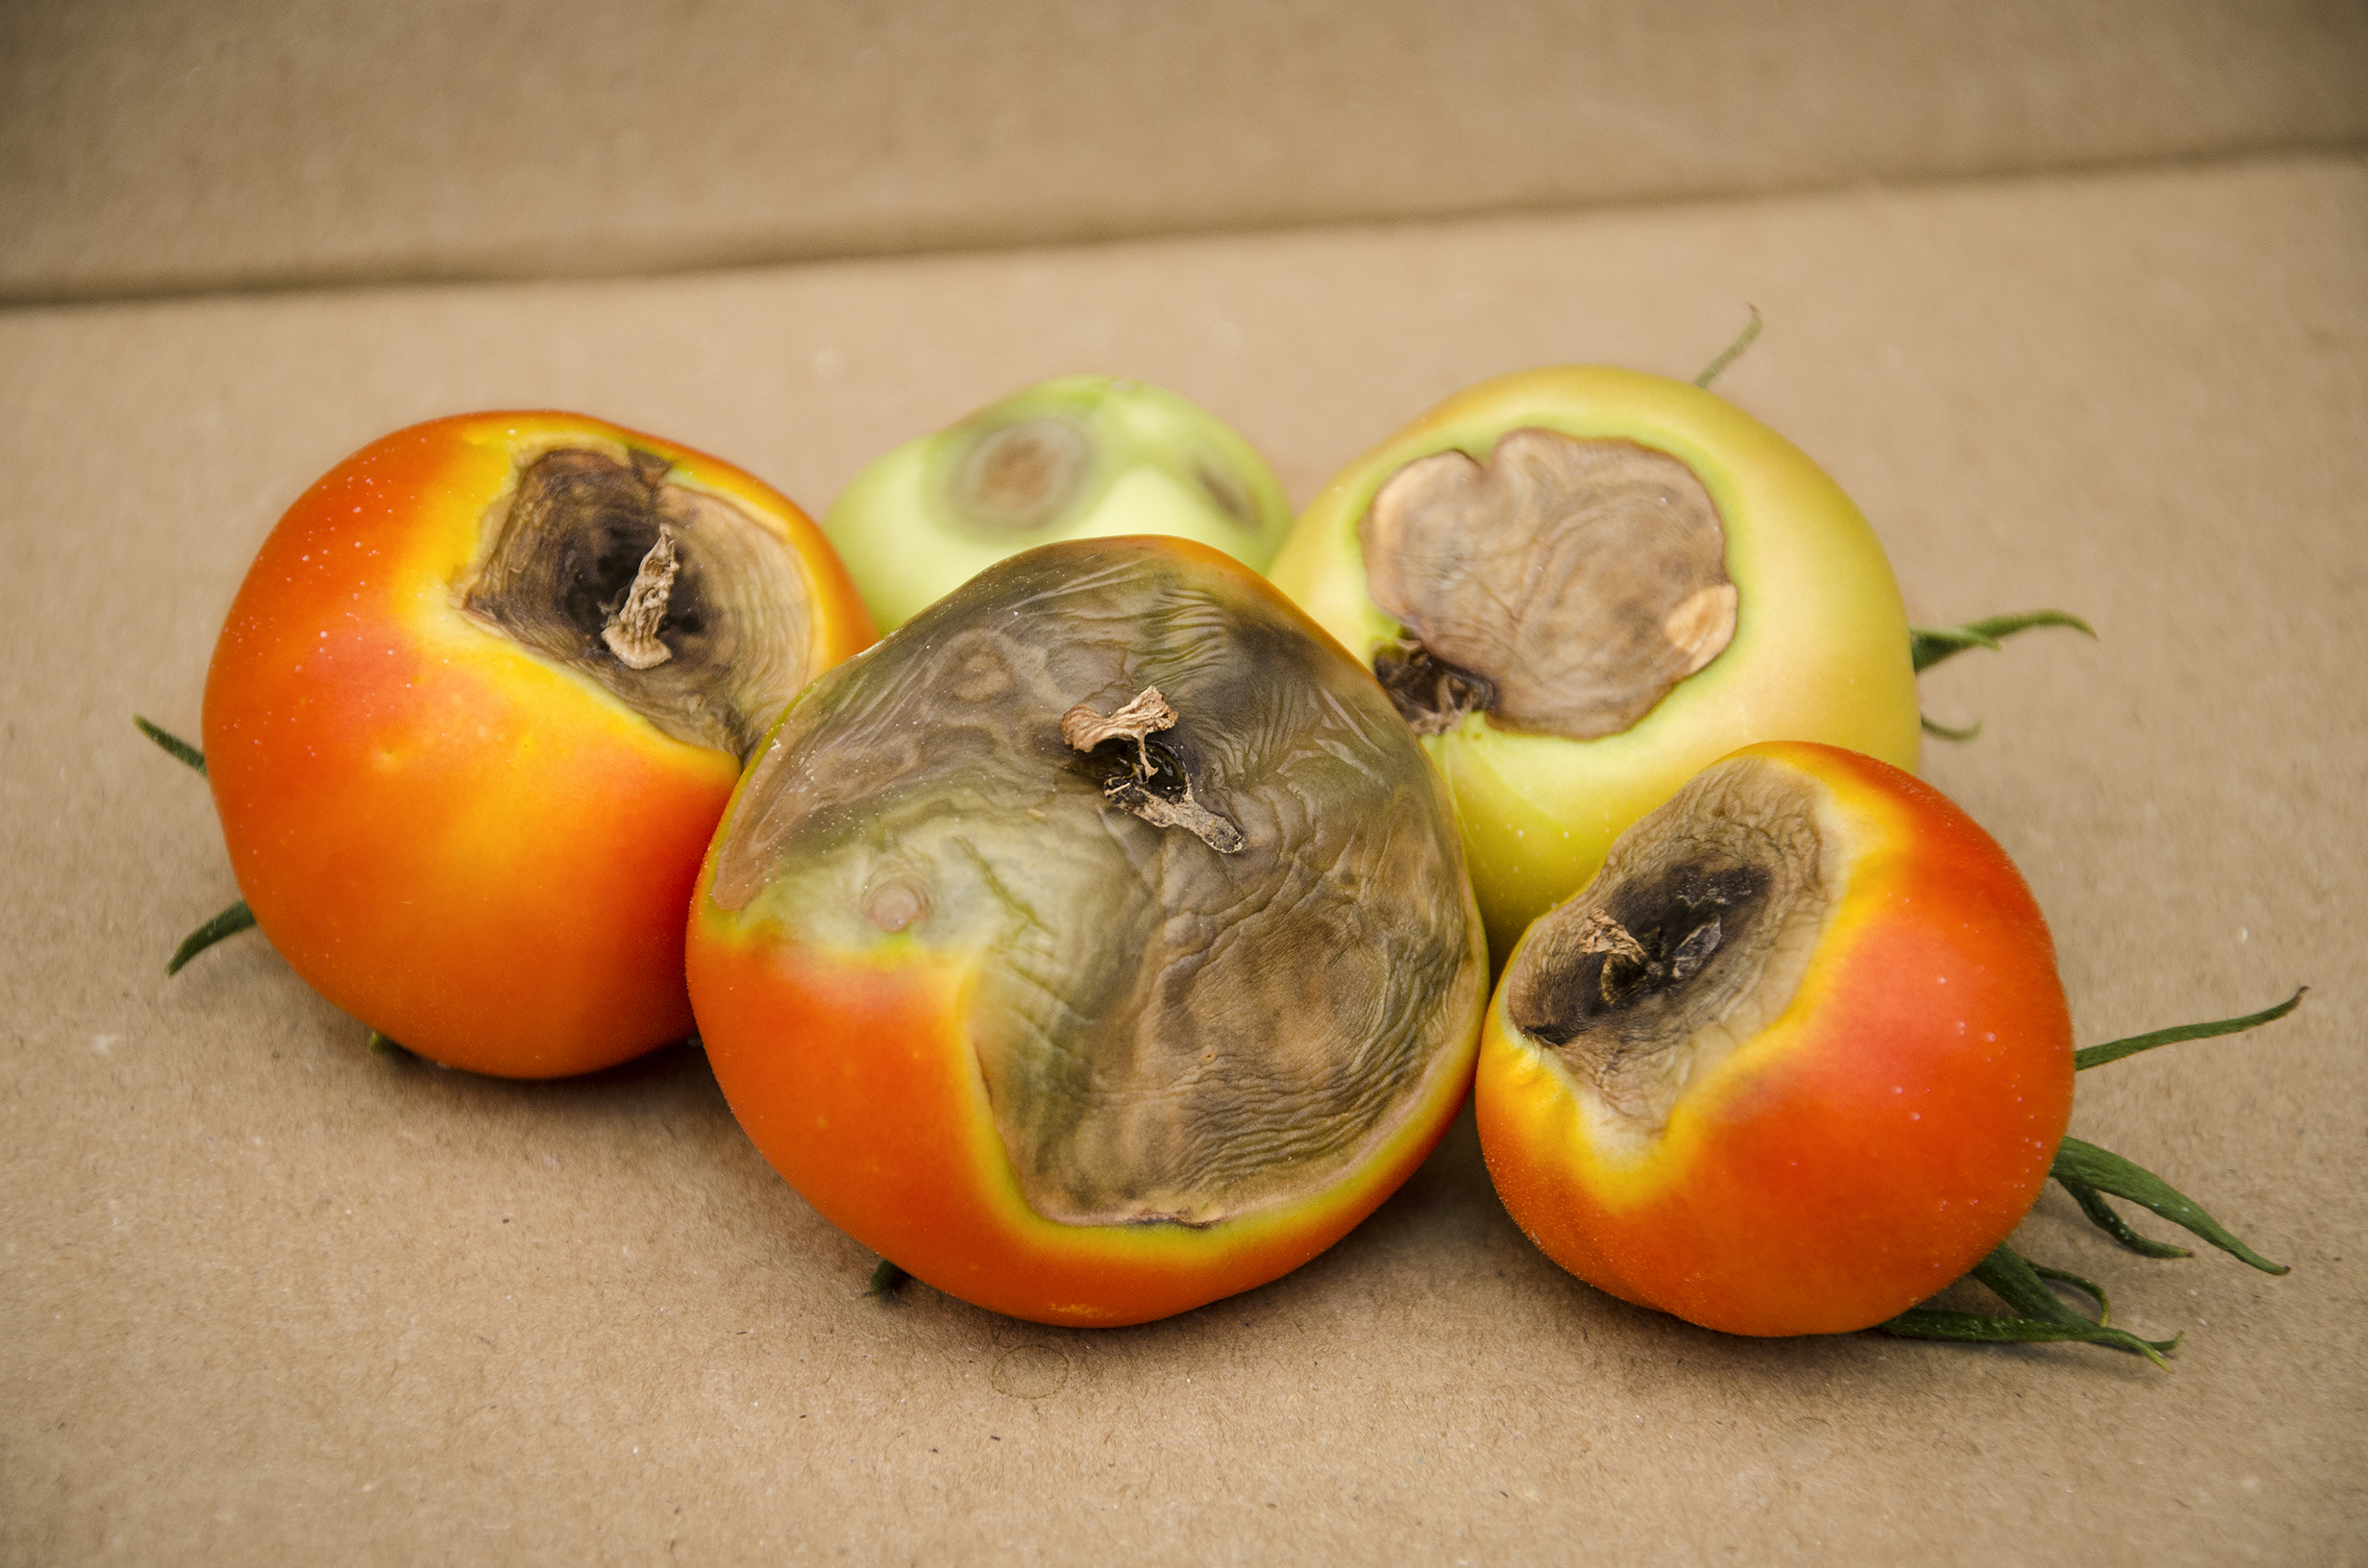blossom_rotw: (1036, 604, 1421, 1046), (438, 429, 877, 810), (1551, 768, 1855, 1160)
